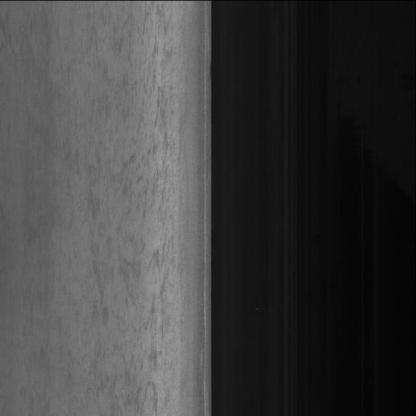silk_spot: (131, 30, 183, 388)
